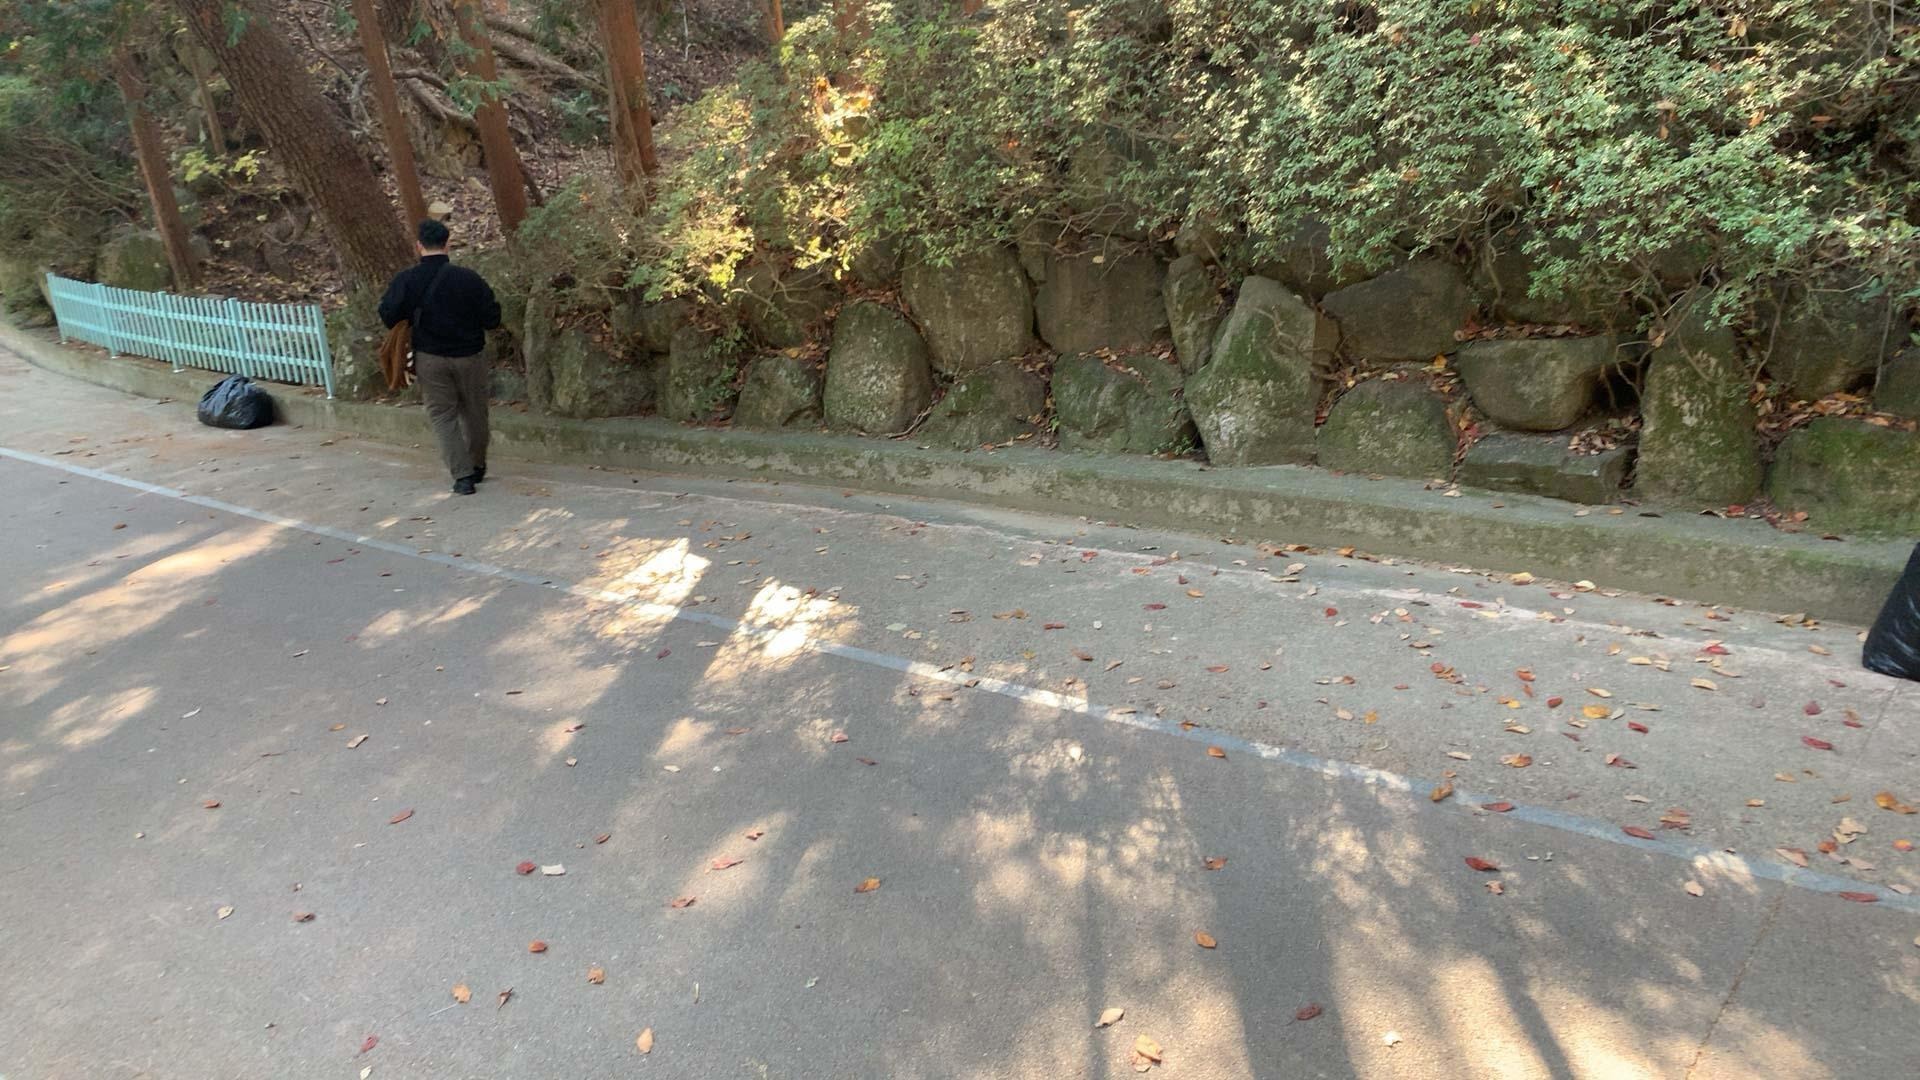black_bag: (193, 372, 276, 433)
